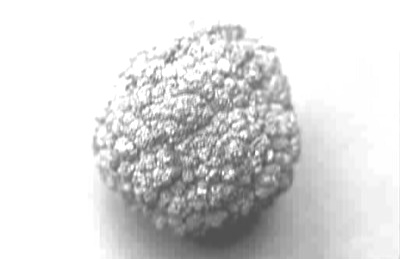halobolite: (87, 12, 312, 244)
